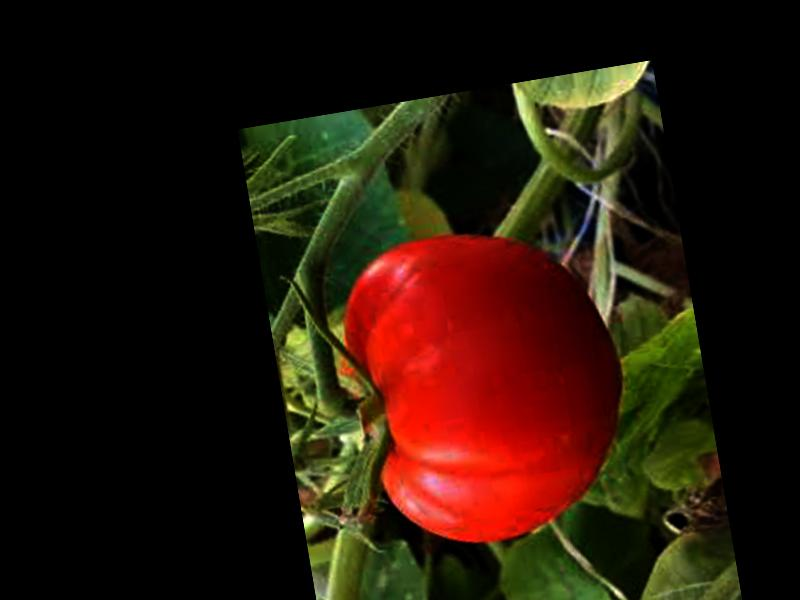Tomato: (331, 208, 642, 560)
